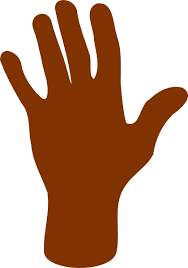palm: (44, 87, 150, 184)
